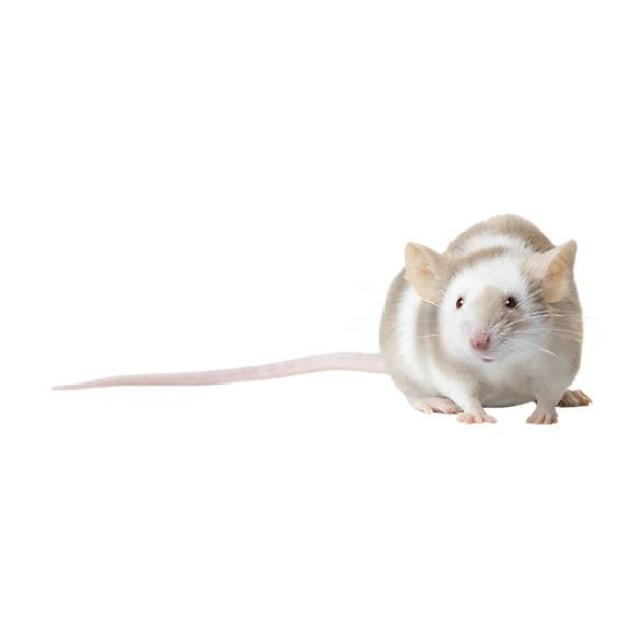Mouse: (60, 198, 596, 426)
